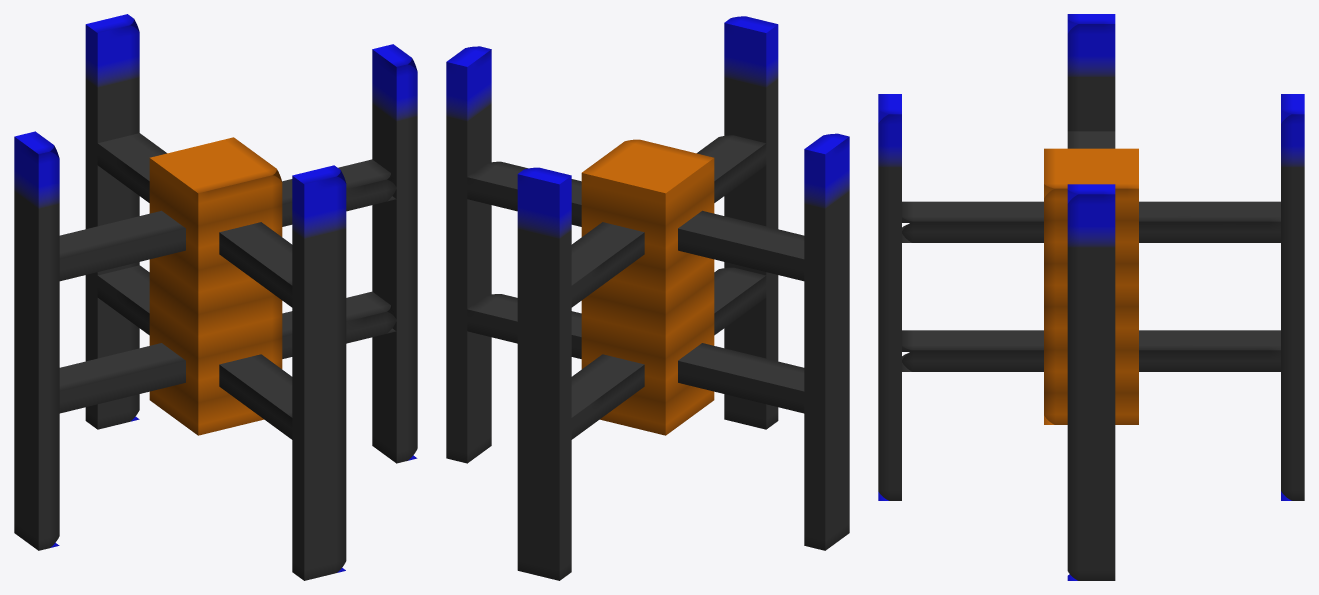
File: emp_tower_clockwise.obj
The picture shows the model from 3 angles, left to right: view 1: azimuth 30°, elevation 25°; view 2: azimuth 150°, elevation 25°; view 3: azimuth 270°, elevation 25°; orthographic projection. The views are drawn at different scales.
Visible parts, largest first — view 1: Main_Coil, Support_Beam_D1, Support_Beam_A1, Support_Beam_C1, Support_Beam_B1, Support_Beam_CA2, Support_Beam_CA1, Support_Beam_DB2, Support_Beam_DB1; view 2: Main_Coil, Support_Beam_B1, Support_Beam_A1, Support_Beam_C1, Support_Beam_D1, Support_Beam_CA2, Support_Beam_CA1, Support_Beam_DB2, Support_Beam_DB1; view 3: Support_Beam_C1, Main_Coil, Support_Beam_DB1, Support_Beam_DB2, Support_Beam_B1, Support_Beam_D1, Support_Beam_A1, Support_Beam_CA2.
Boxes of the visible parts, x1=… form: Main_Coil: x1=149, y1=137, x2=282, y2=435; Support_Beam_D1: x1=292, y1=165, x2=346, y2=580; Support_Beam_A1: x1=14, y1=131, x2=59, y2=550; Support_Beam_C1: x1=372, y1=44, x2=417, y2=463; Support_Beam_B1: x1=85, y1=14, x2=139, y2=429; Support_Beam_CA2: x1=59, y1=159, x2=396, y2=281; Support_Beam_CA1: x1=59, y1=291, x2=396, y2=413; Support_Beam_DB2: x1=97, y1=133, x2=292, y2=307; Support_Beam_DB1: x1=97, y1=265, x2=292, y2=439; Main_Coil: x1=581, y1=139, x2=714, y2=435; Support_Beam_B1: x1=517, y1=167, x2=571, y2=580; Support_Beam_A1: x1=804, y1=133, x2=849, y2=550; Support_Beam_C1: x1=446, y1=46, x2=491, y2=463; Support_Beam_D1: x1=724, y1=16, x2=778, y2=429; Support_Beam_CA2: x1=467, y1=161, x2=804, y2=281; Support_Beam_CA1: x1=467, y1=294, x2=804, y2=413; Support_Beam_DB2: x1=571, y1=135, x2=766, y2=307; Support_Beam_DB1: x1=571, y1=267, x2=766, y2=439; Support_Beam_C1: x1=1067, y1=184, x2=1115, y2=580; Main_Coil: x1=1044, y1=148, x2=1138, y2=424; Support_Beam_DB1: x1=902, y1=330, x2=1280, y2=371; Support_Beam_DB2: x1=902, y1=201, x2=1280, y2=242; Support_Beam_B1: x1=1281, y1=94, x2=1304, y2=500; Support_Beam_D1: x1=878, y1=94, x2=901, y2=500; Support_Beam_A1: x1=1067, y1=14, x2=1115, y2=131; Support_Beam_CA2: x1=1067, y1=131, x2=1115, y2=148.
Bounding box in the file's own units: 1.12 × 1.12 × 1.12.
